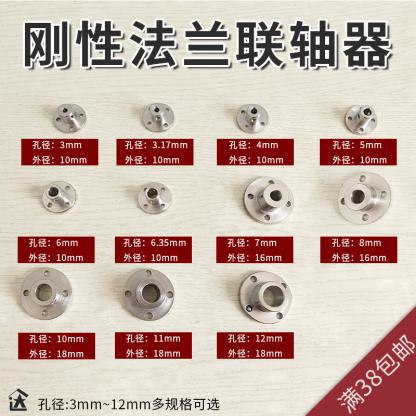FOD: (117, 265, 177, 325), (13, 264, 73, 321), (333, 170, 394, 226), (236, 270, 296, 325), (240, 174, 297, 226), (38, 180, 81, 216), (133, 180, 174, 216), (342, 102, 382, 137), (138, 100, 176, 136), (52, 100, 89, 136), (235, 101, 270, 135)
